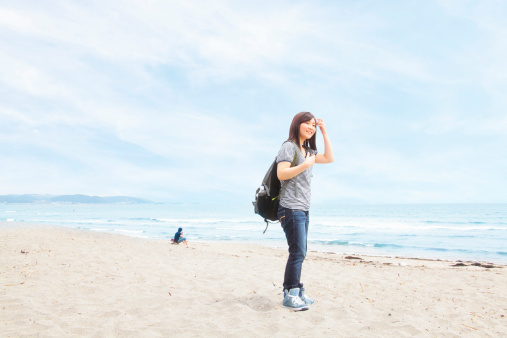em pe: (263, 107, 326, 302)
